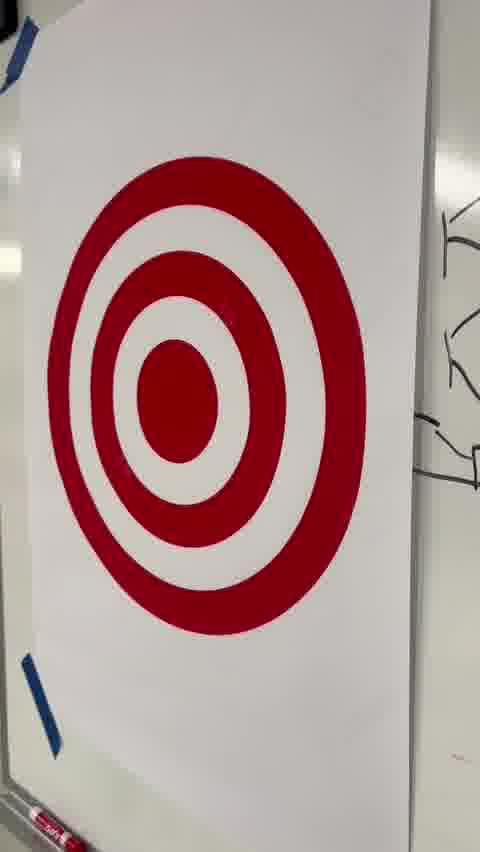target_red: (49, 156, 366, 635)
